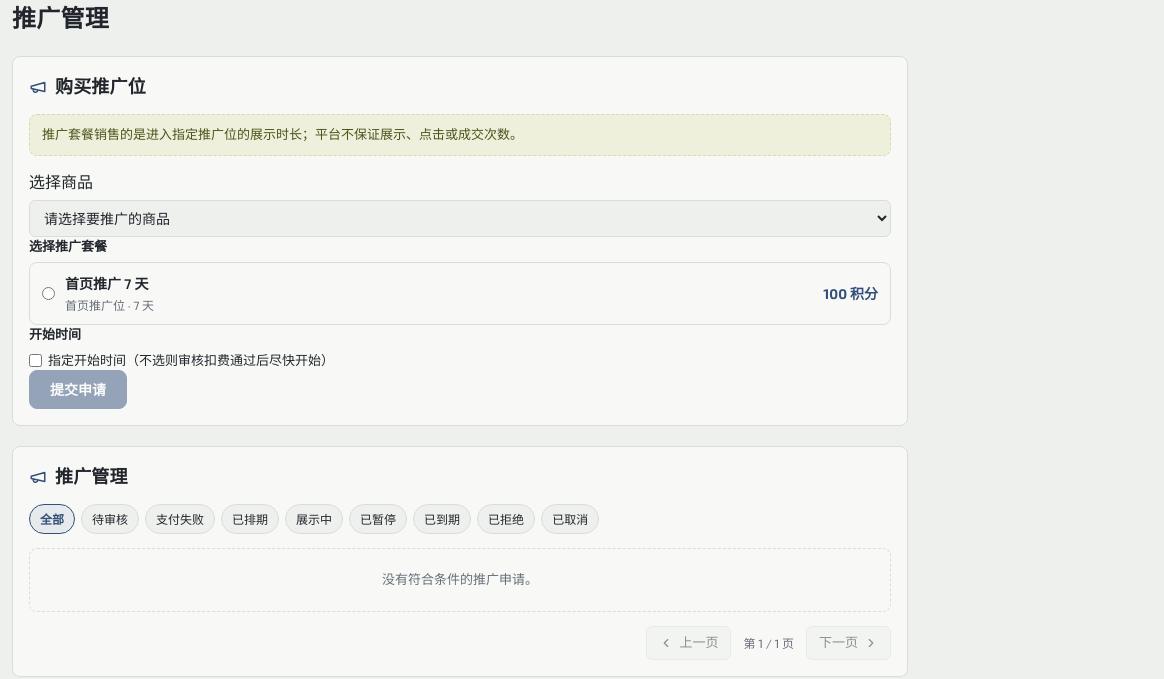
it: merchant promotion mobile completions › never converts a successful create into a resubmit prompt if list refresh fails
Select "测试商品" in the dropdown labelled "选择商品" at (460,218), box [29,200,891,236]
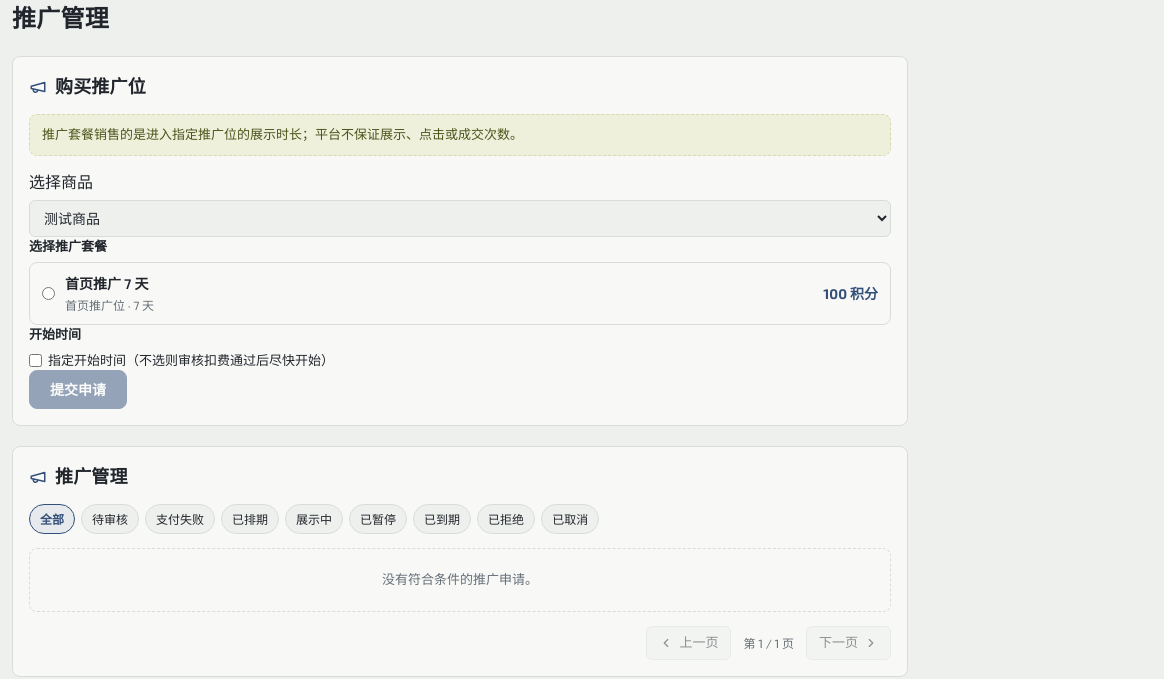
Click the radio button labelled "首页推广 7 天 首页推广位 · 7 天 100 积分" at (48,294), box [42,287,55,300]
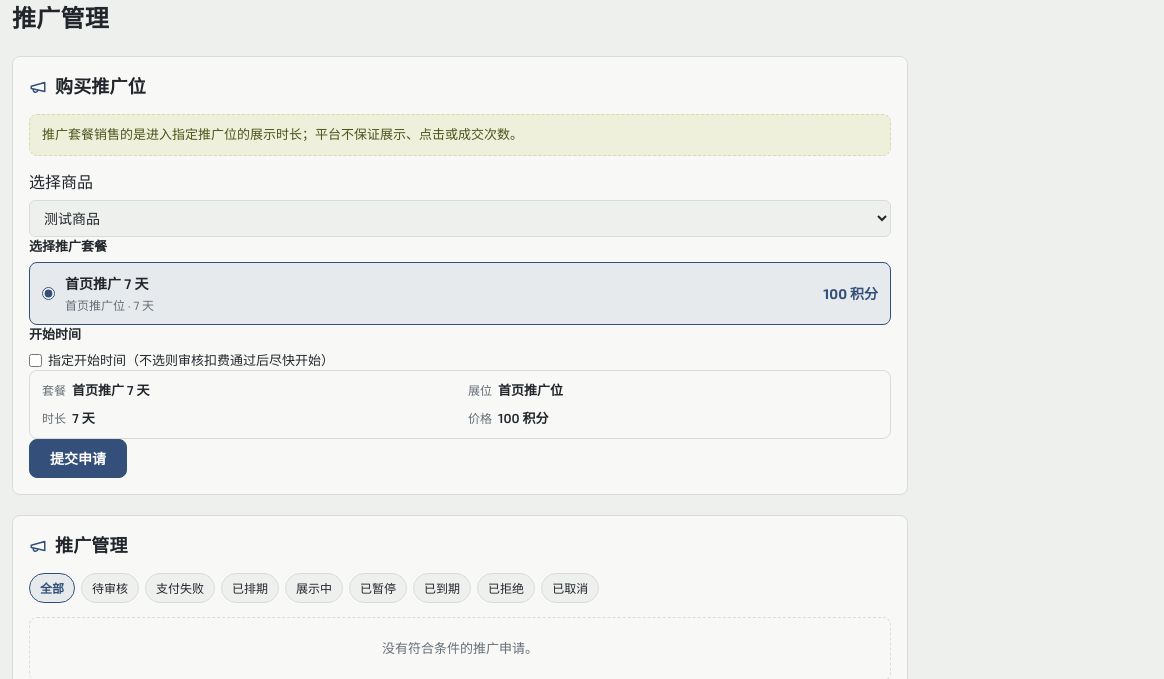
Click the button "提交申请" at (78,458), box [29,439,127,478]
(page scrolled)
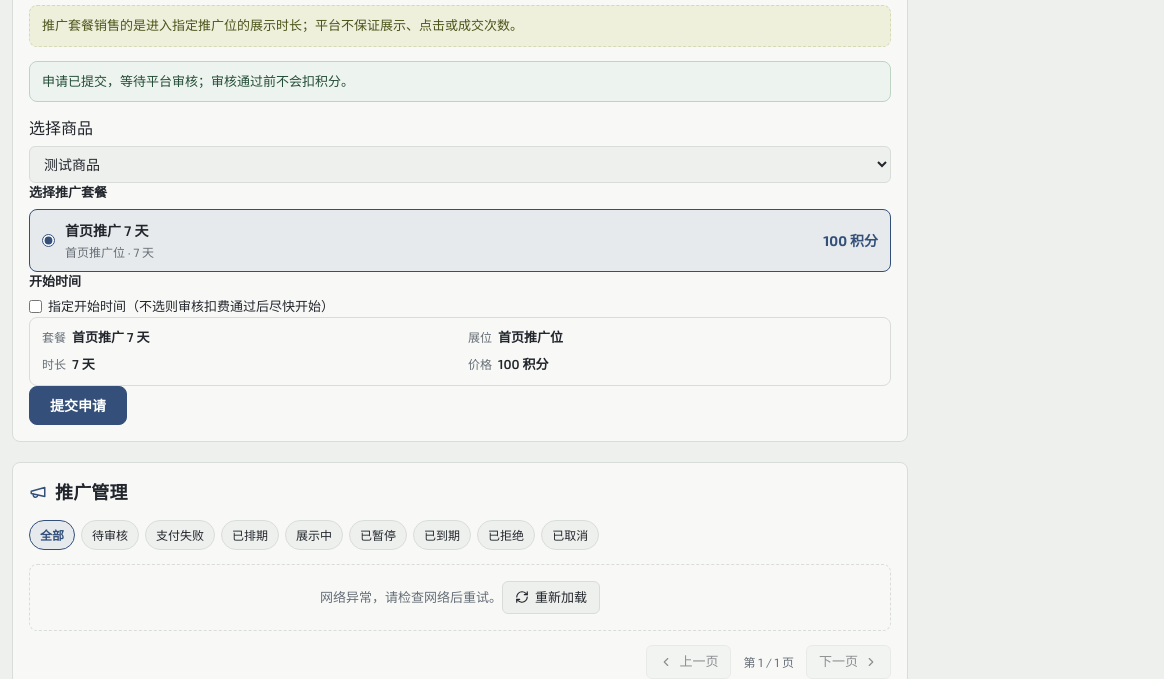
Expected: the message "申请已提交，等待平台审核；审核通过前不会扣积分。" is shown, [29,60,891,102]
Expected: the button "重新加载" is shown, [502,580,600,614]
